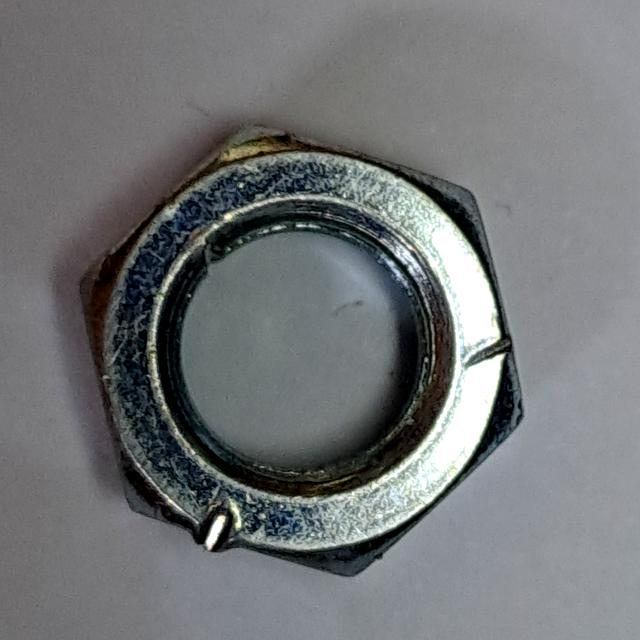Scratches: (66, 107, 538, 591)
